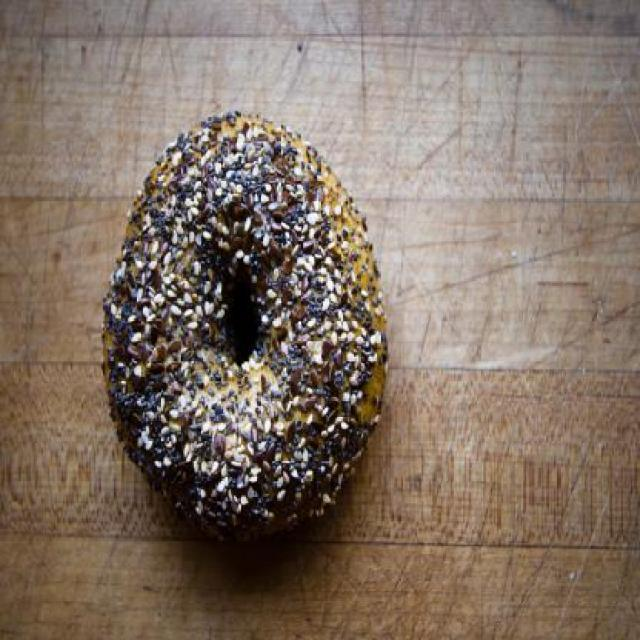Bagel: (102, 106, 390, 540)
